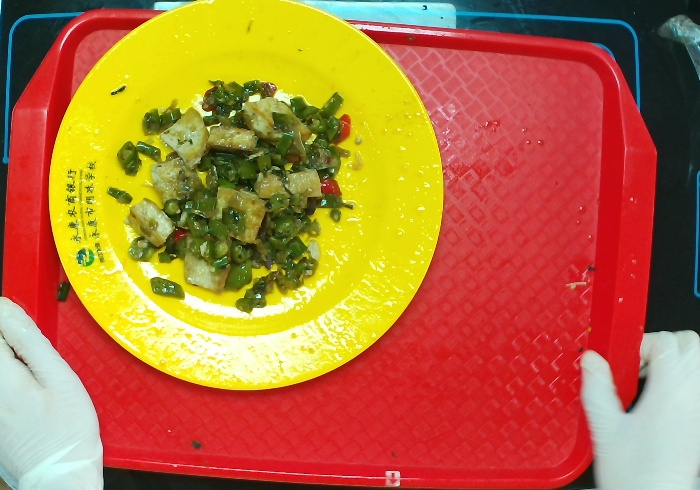YKMZ-Huang_Se_Mian_Pan: (45, 1, 446, 392)
